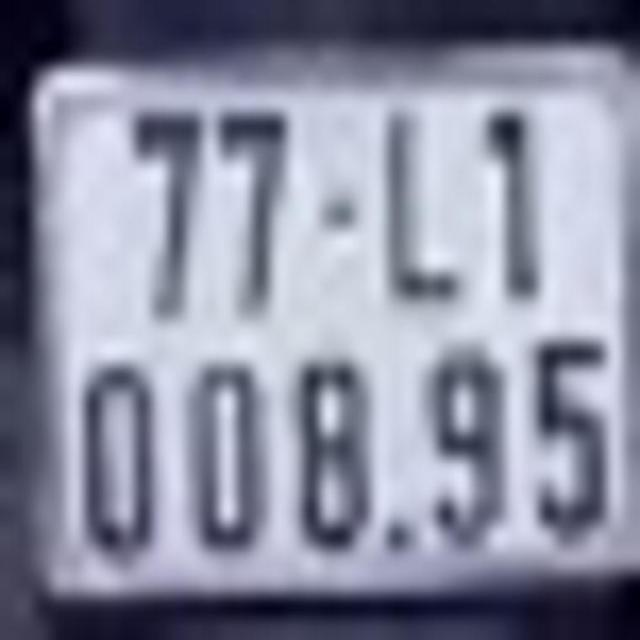0: (74, 346, 164, 565), (183, 348, 264, 551)
1: (483, 102, 551, 308)
5: (531, 332, 613, 554)
7: (127, 95, 210, 324), (215, 93, 294, 314)
8: (290, 348, 372, 562)
9: (424, 339, 508, 551)
L: (380, 102, 463, 308)
